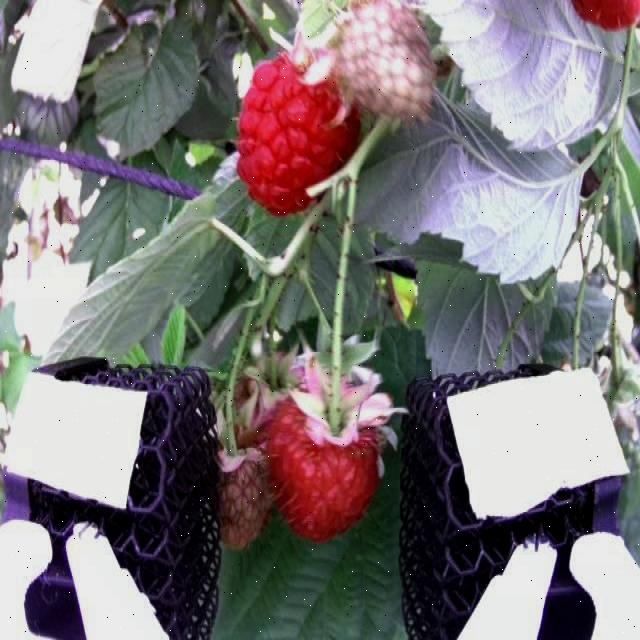Riped berries: (269, 366, 399, 550), (232, 46, 368, 215), (568, 0, 639, 34)
